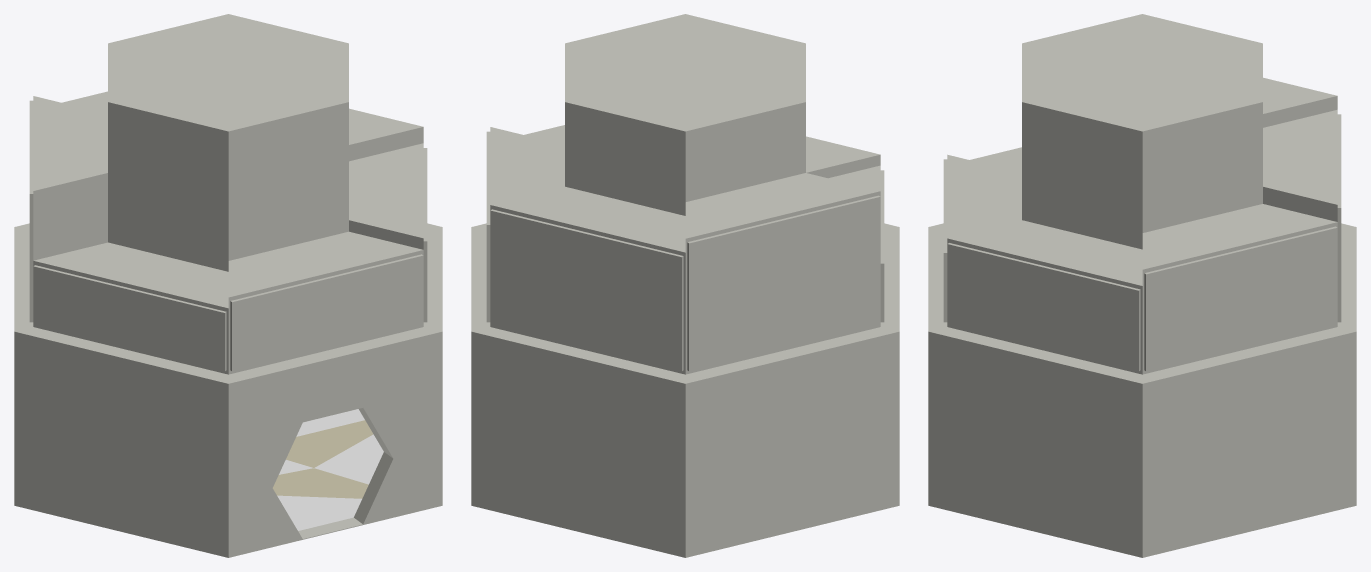
The model's file is BreakRoom.glb.
3 renders of one model, left to right at view 1: azimuth 30°, elevation 25°; view 2: azimuth 150°, elevation 25°; view 3: azimuth 270°, elevation 25°, orthographic.
Visible parts, largest first — view 1: Room-col; view 2: Room-col; view 3: Room-col.
Boxes of the visible parts, bbox=[...] form: Room-col: bbox=[14, 14, 442, 557]; Room-col: bbox=[471, 14, 899, 557]; Room-col: bbox=[928, 14, 1356, 557].
Size of the model in its own units: 10 by 8.49 by 8.66.
